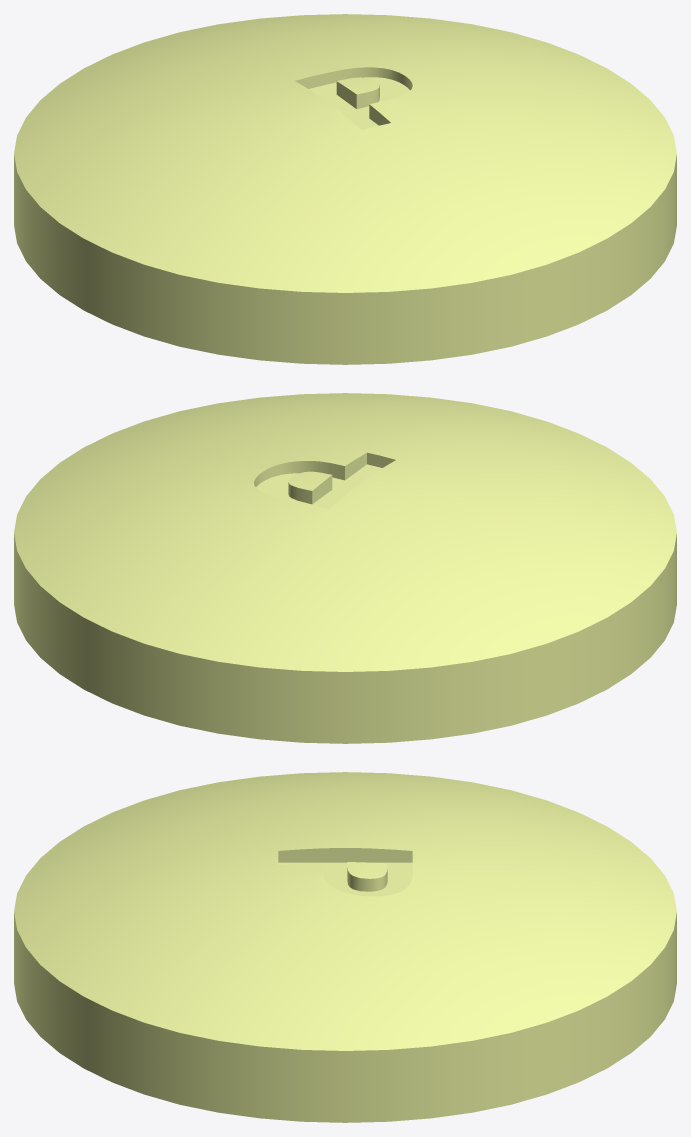
The model's file is pill3.dae.
The picture shows the model from 3 angles, top to bottom: view 1: azimuth 30°, elevation 25°; view 2: azimuth 150°, elevation 25°; view 3: azimuth 270°, elevation 25°; orthographic projection.
Visible parts, largest first — view 1: pill (×2); view 2: pill (×2); view 3: pill (×2).
Boxes of the visible parts, bbox=[...] form: pill (×2): bbox=[14, 14, 676, 364]; pill (×2): bbox=[14, 393, 676, 743]; pill (×2): bbox=[14, 772, 676, 1122].
Bounding box in the file's own units: 0.2569 × 0.258 × 0.0785.
